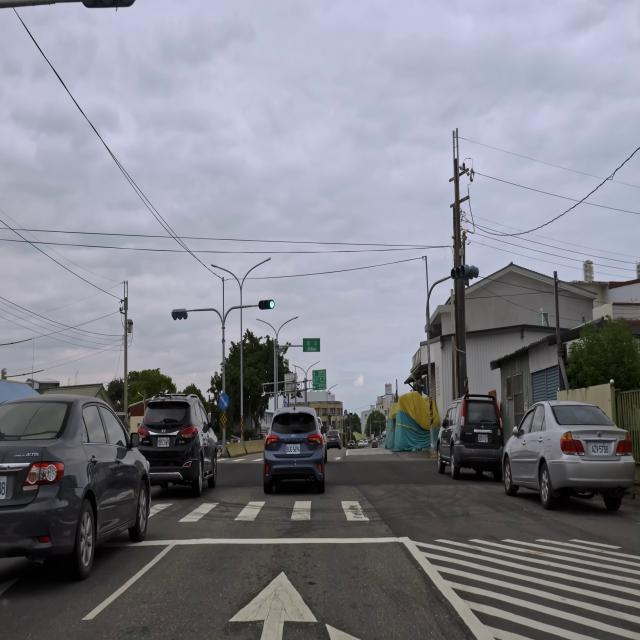green light: (258, 299, 275, 310)
